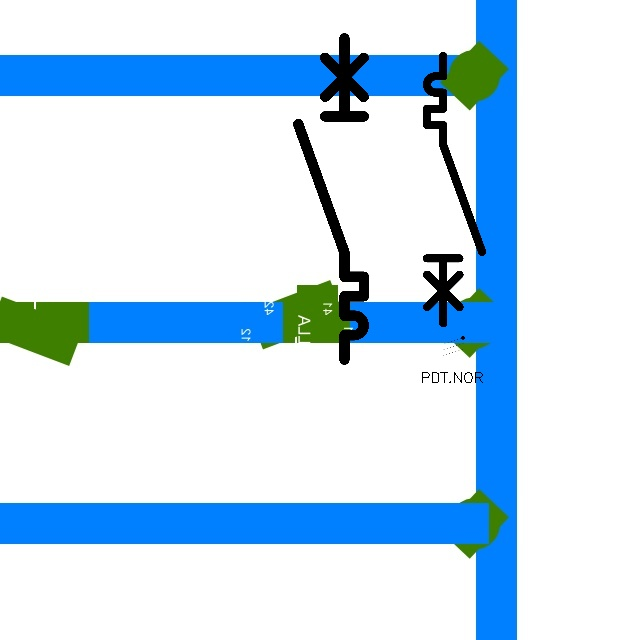interruptor_termomagnetico: (290, 30, 372, 368), (420, 49, 488, 330)
